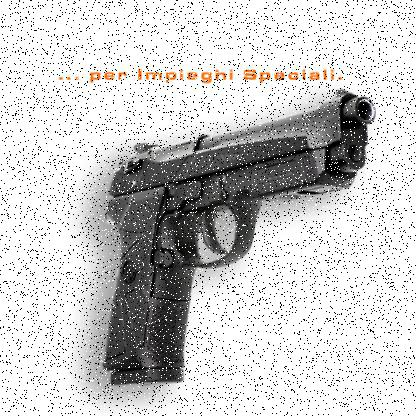pistol: (101, 89, 378, 387)
